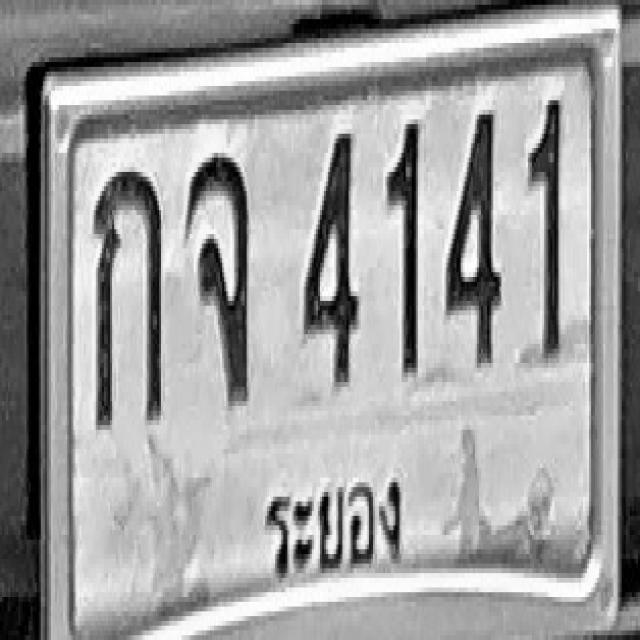1: (527, 96, 561, 358), (386, 120, 419, 372)
10GorGai: (93, 167, 162, 425)
17ChorChan: (186, 153, 248, 401)
4: (302, 126, 358, 384), (446, 107, 500, 366)
Rayong: (255, 449, 413, 597)
